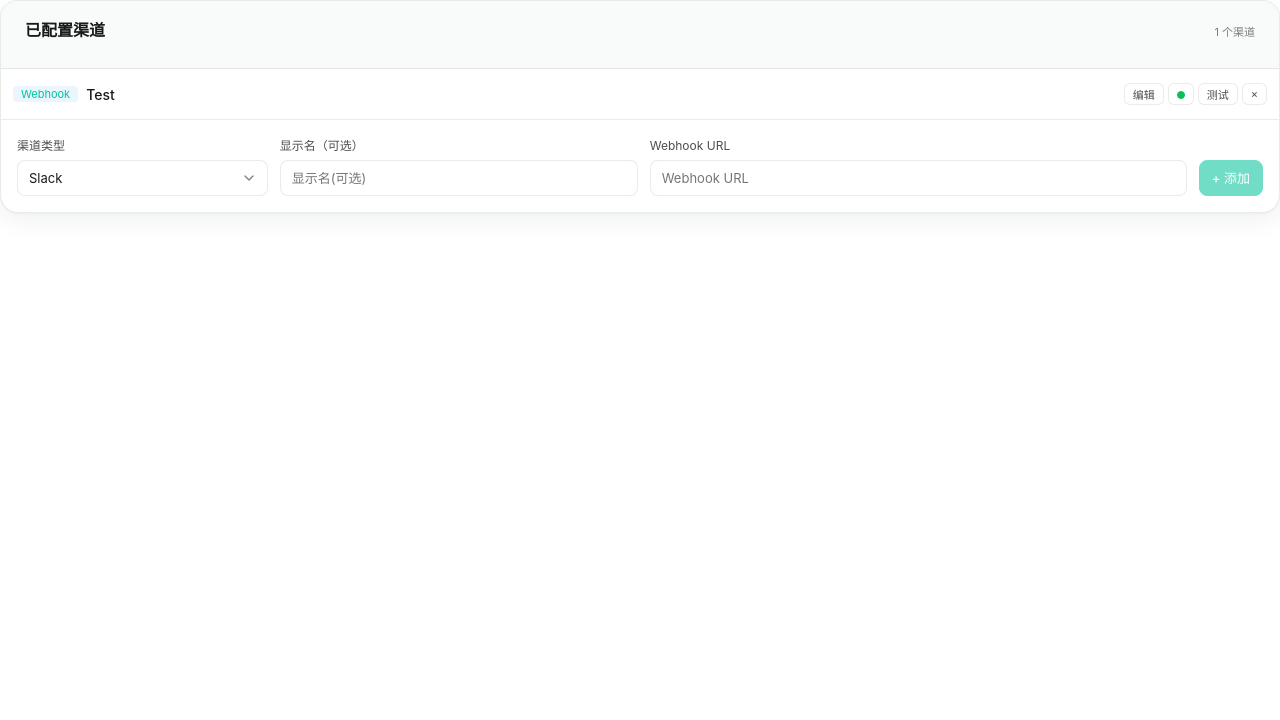
Scenario: NotifyChannelsPanel › 移除渠道
Expected: the text "Test" is shown, x1=86 y1=86 x2=115 y2=102
What coordinates should you click on to do the following:
click the button titled "移除"
I would click on:
 (1254, 94)
Its box is x1=1242 y1=83 x2=1267 y2=105.
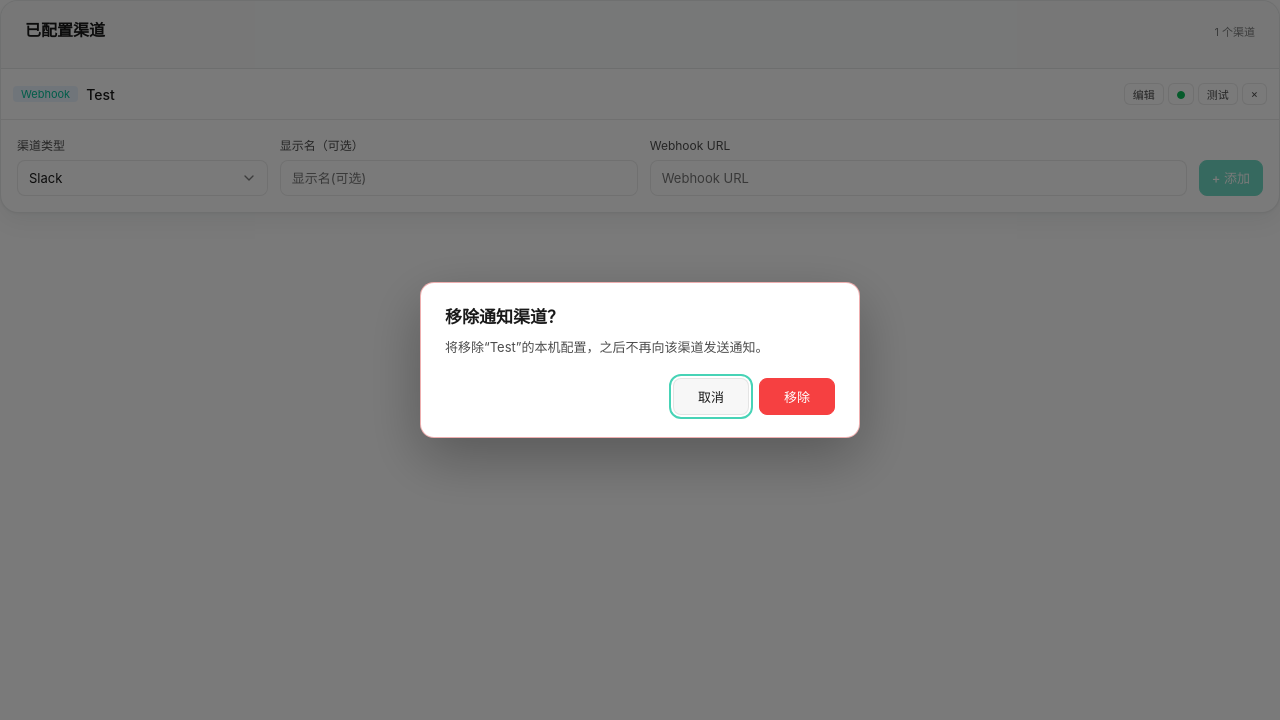
What coordinates should you click on to do the following:
click the button "移除"
I would click on:
 (797, 397)
Its box is x1=759 y1=378 x2=835 y2=415.
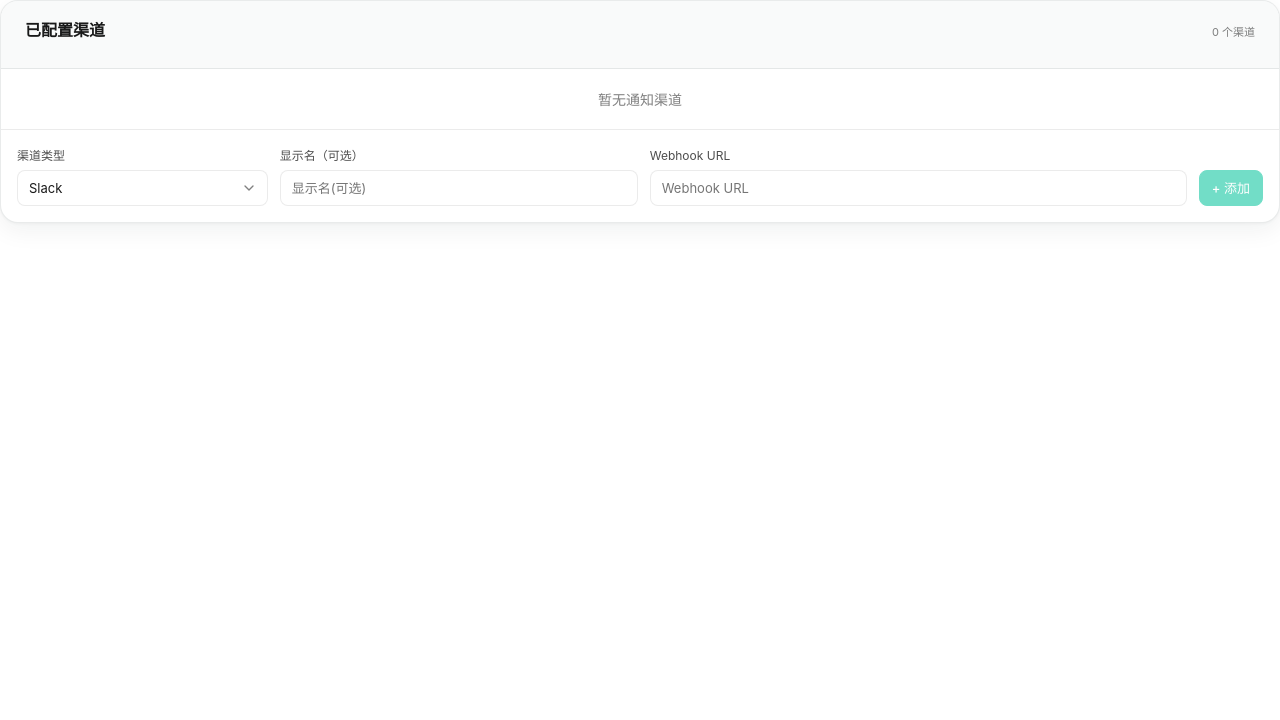
Expected: the text "Test" is gone
